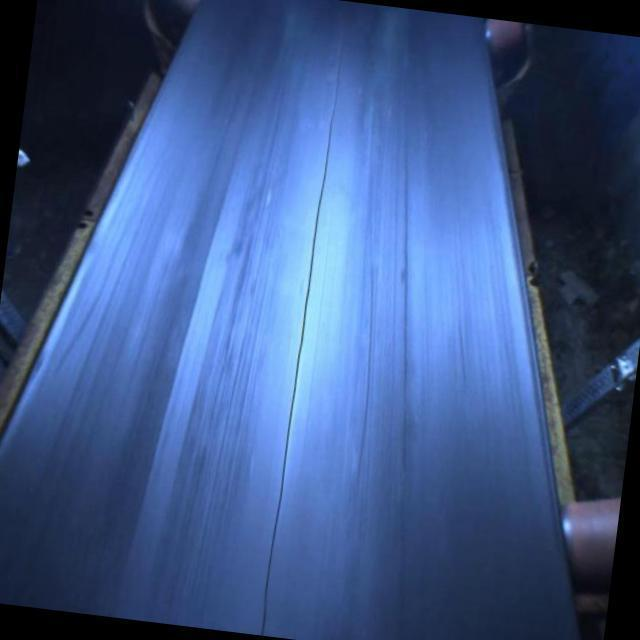Tear: (255, 39, 348, 640)
